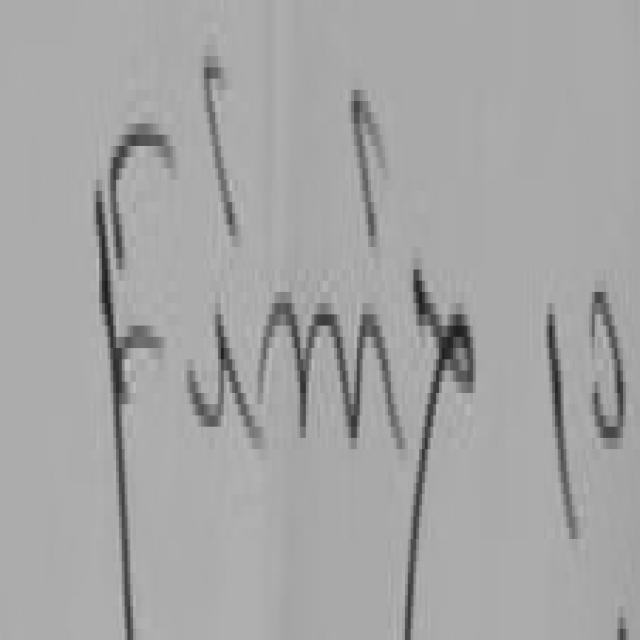0: (584, 239, 630, 505)
1: (532, 239, 590, 569)
F: (78, 55, 184, 620)
i: (198, 114, 252, 458), (355, 116, 403, 492)
n: (262, 249, 355, 492)
x: (408, 212, 490, 530)
